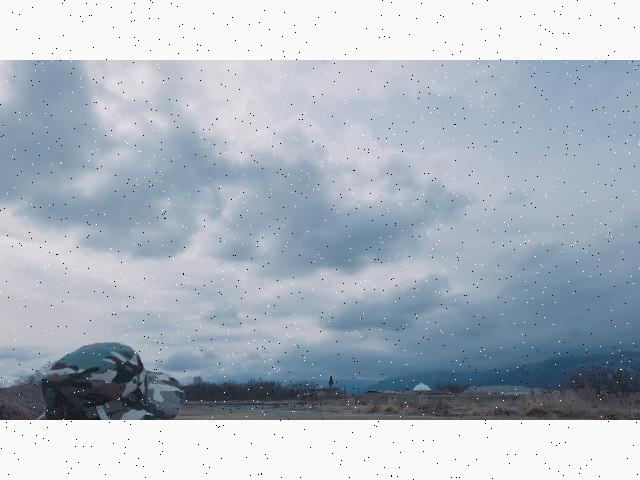Anti-Drone: (274, 292, 280, 301)
